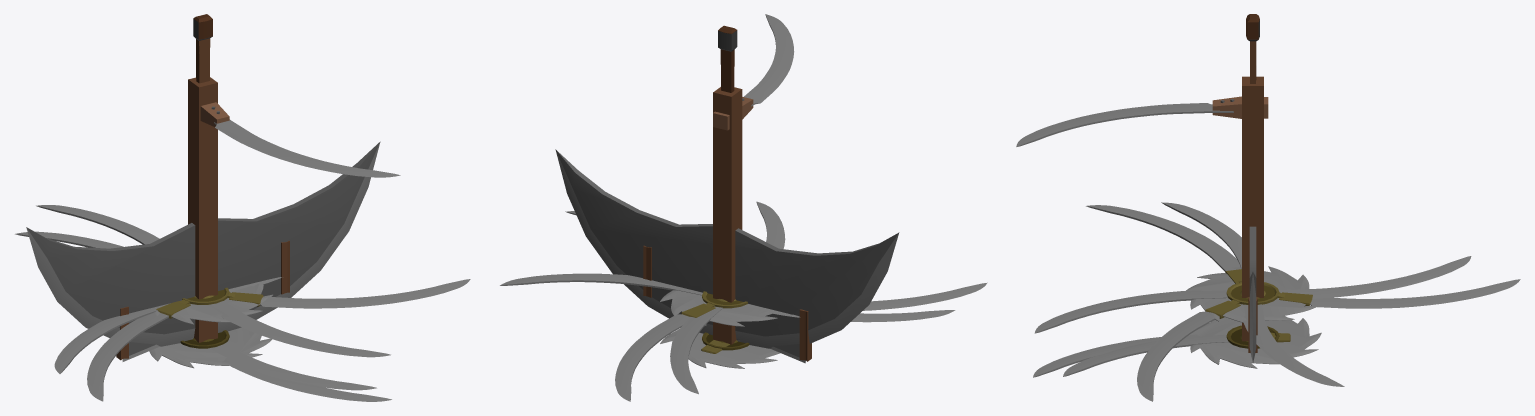
The model's file is BladeTraps.fbx.
The picture shows the model from 3 angles, left to right: view 1: azimuth 30°, elevation 25°; view 2: azimuth 150°, elevation 25°; view 3: azimuth 270°, elevation 25°; orthographic projection. The views are drawn at different scales.
Visible parts, largest first — view 1: Blade04, BladeTrap01, BladeTrap03A, BladeTrap03B-B2, BladeTrap03B-B1, Blade02, BladeTrap02, Blade-01, BladeTrap04, BladeTrap03B-B3, AxeBladeTrap01A, BladeTrap05A; view 2: Blade04, BladeTrap01, BladeTrap03A, BladeTrap03B-B3, BladeTrap04, Blade02, BladeTrap03B-B1, AxeBladeTrap01D, BladeTrap05A; view 3: BladeTrap01, BladeTrap03A, BladeTrap04, Blade02, BladeTrap03B-B3, BladeTrap03B-B2, BladeTrap03B-B1, BladeTrap02, Blade-01, Blade04, AxeBladeTrap01A.
Boxes of the visible parts, bbox=[...] form: Blade04: bbox=[26, 141, 380, 346]; BladeTrap01: bbox=[188, 77, 400, 342]; BladeTrap03A: bbox=[15, 231, 390, 373]; BladeTrap03B-B2: bbox=[229, 279, 470, 308]; BladeTrap03B-B1: bbox=[87, 301, 190, 401]; Blade02: bbox=[149, 327, 271, 368]; BladeTrap02: bbox=[180, 330, 391, 401]; Blade-01: bbox=[209, 343, 376, 390]; BladeTrap04: bbox=[153, 283, 272, 324]; BladeTrap03B-B3: bbox=[36, 205, 159, 244]; AxeBladeTrap01A: bbox=[193, 14, 212, 83]; BladeTrap05A: bbox=[116, 240, 289, 360]; Blade04: bbox=[555, 149, 899, 348]; BladeTrap01: bbox=[713, 14, 794, 344]; BladeTrap03A: bbox=[500, 201, 955, 394]; BladeTrap03B-B3: bbox=[615, 303, 715, 401]; BladeTrap04: bbox=[660, 290, 777, 326]; Blade02: bbox=[660, 328, 780, 368]; BladeTrap03B-B1: bbox=[863, 282, 987, 310]; AxeBladeTrap01D: bbox=[718, 30, 740, 341]; BladeTrap05A: bbox=[643, 245, 811, 361]; BladeTrap01: bbox=[1016, 76, 1268, 341]; BladeTrap03A: bbox=[1034, 202, 1471, 386]; BladeTrap04: bbox=[1186, 266, 1318, 322]; Blade02: bbox=[1189, 316, 1321, 368]; BladeTrap03B-B3: bbox=[1279, 279, 1520, 308]; BladeTrap03B-B2: bbox=[1137, 300, 1240, 401]; BladeTrap03B-B1: bbox=[1086, 205, 1241, 283]; BladeTrap02: bbox=[1033, 325, 1279, 377]; Blade-01: bbox=[1063, 334, 1228, 376]; Blade04: bbox=[1249, 226, 1256, 362]; AxeBladeTrap01A: bbox=[1246, 14, 1259, 83].
Size of the model in its own units: 2.52 by 1.96 by 2.71.
